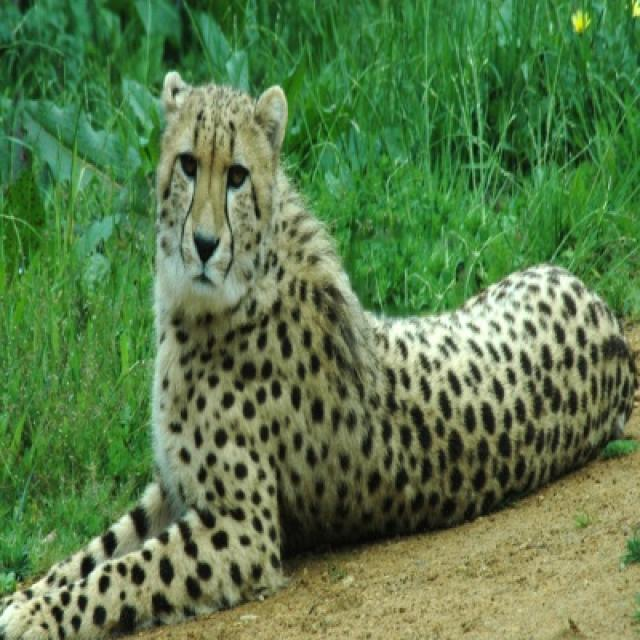Cheetah: (0, 70, 638, 638)
